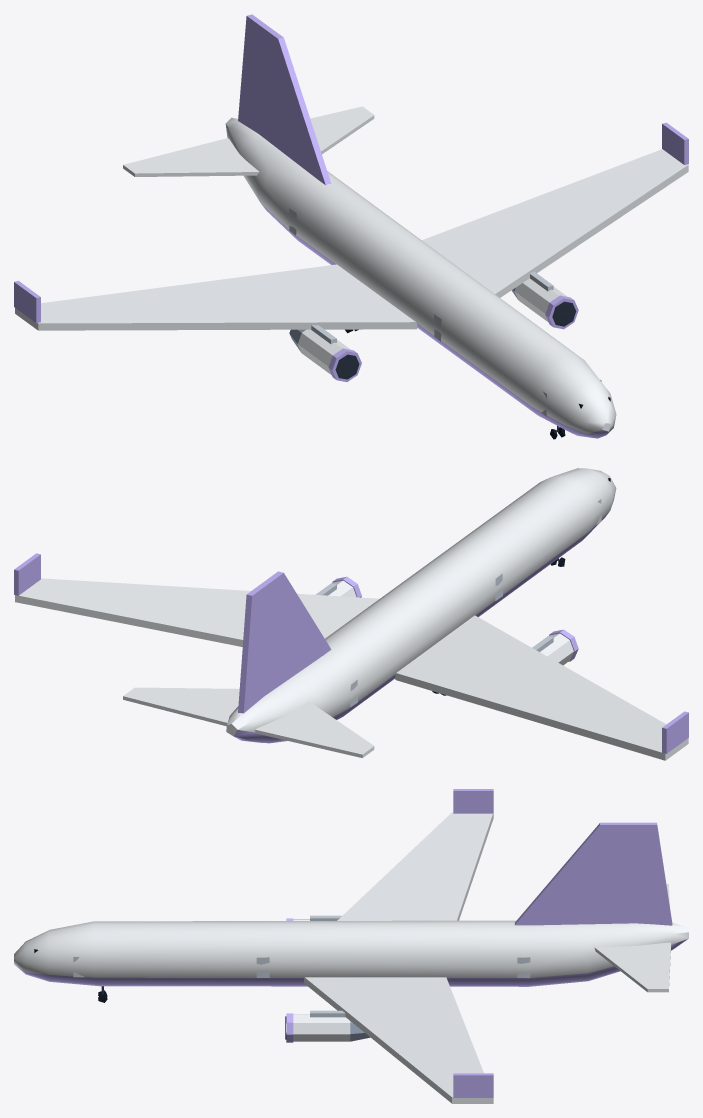
File: passenger_jet.glb
3 renders of one model, top to bottom at view 1: azimuth 30°, elevation 25°; view 2: azimuth 150°, elevation 25°; view 3: azimuth 270°, elevation 25°, orthographic. The views are drawn at different scales.
Parts seen in each view (by area): view 1: passenger_jet; view 2: passenger_jet; view 3: passenger_jet.
Boxes of the visible parts, bbox=[...] form: passenger_jet: bbox=[14, 14, 688, 439]; passenger_jet: bbox=[14, 468, 688, 760]; passenger_jet: bbox=[14, 789, 688, 1103].
Size of the model in its own units: 57.2 by 16.5 by 57.01.
1 material, 1 textured.
